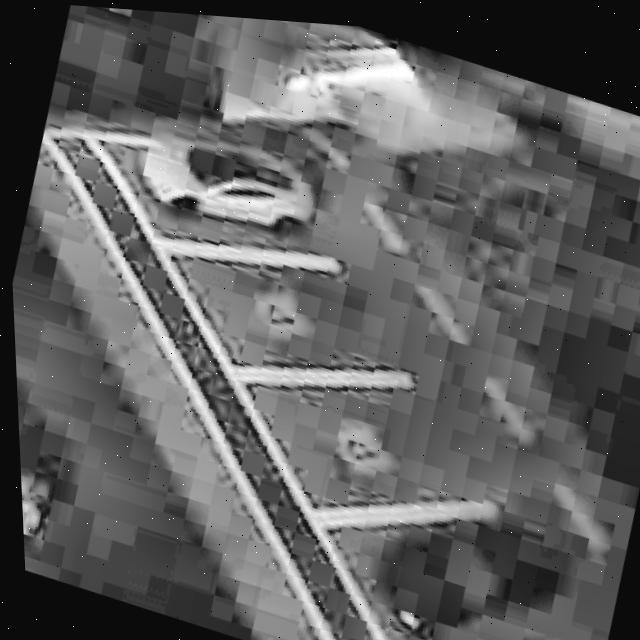car: (336, 452, 571, 640), (116, 101, 331, 260)
